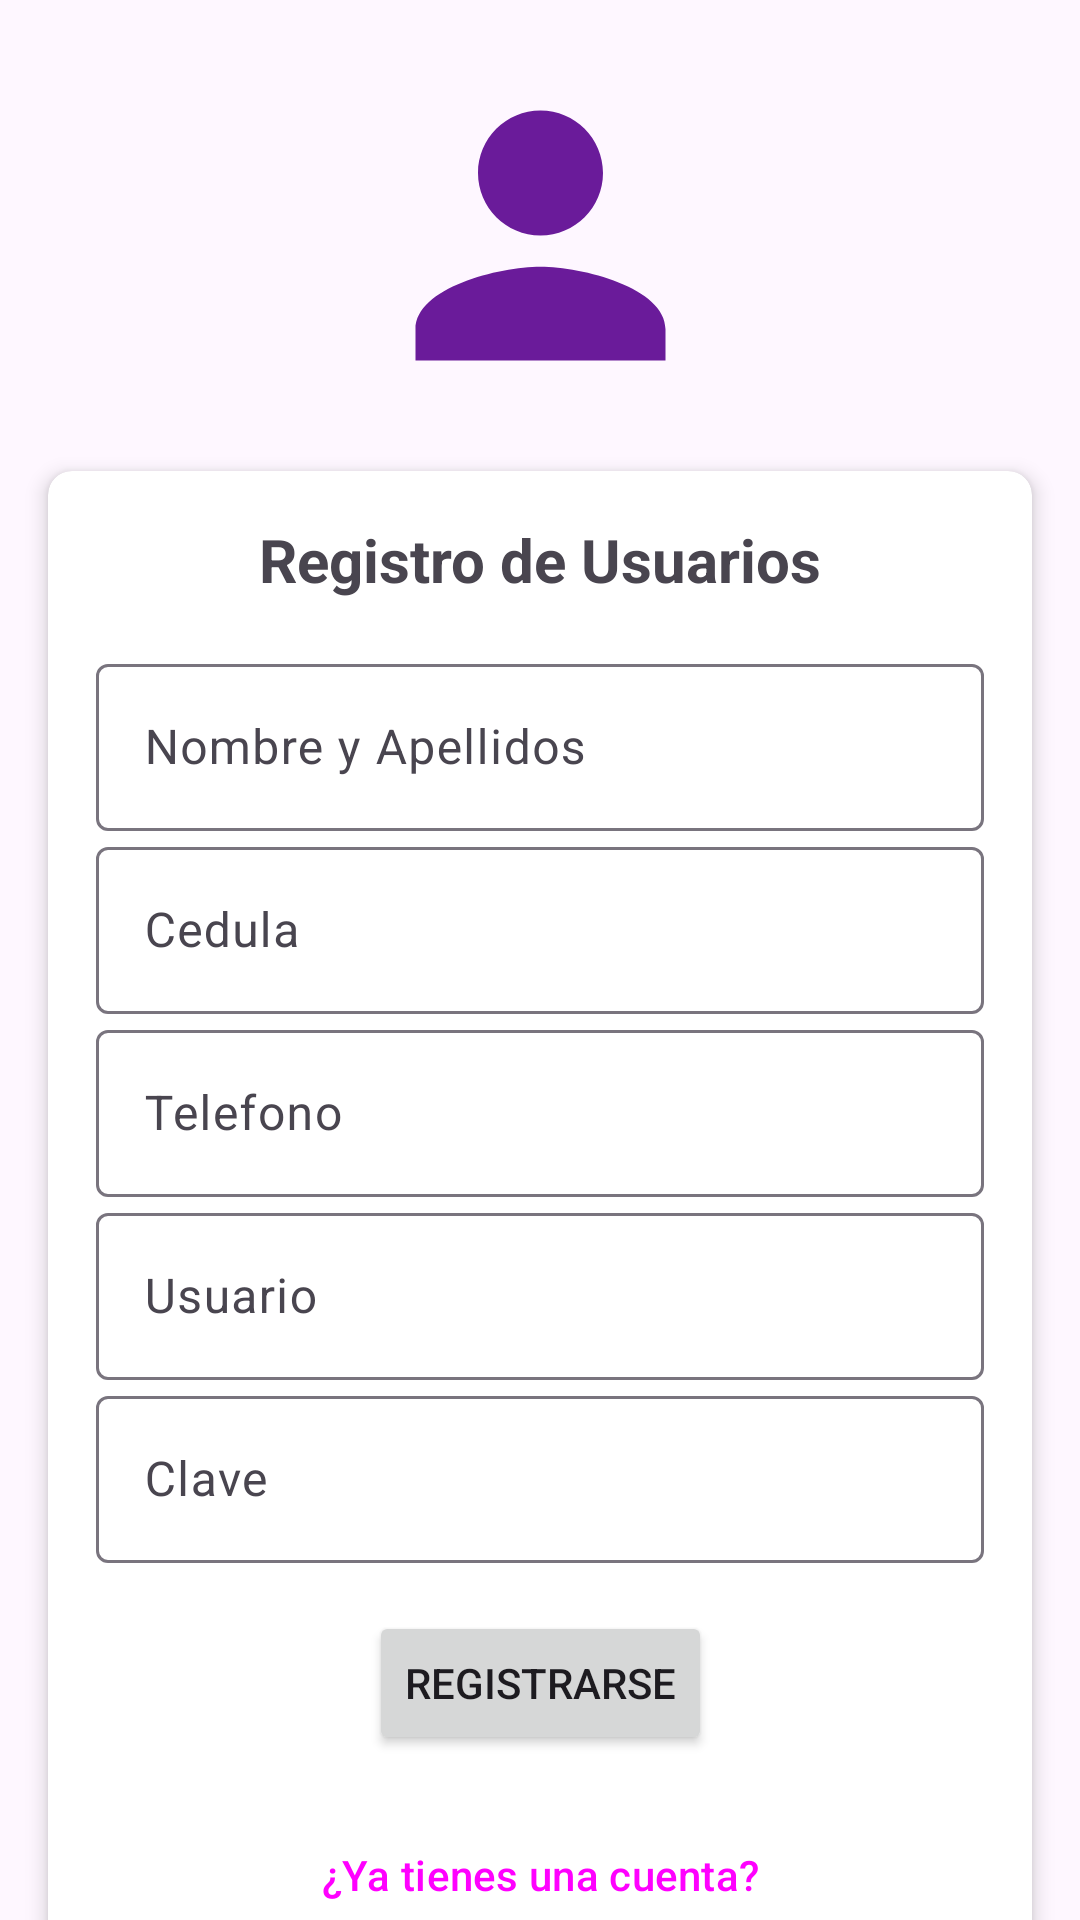

Point at icon controls on the screen. Image size 1080x1920, points as (x=x, y=y).
userico: (x=540, y=235)
